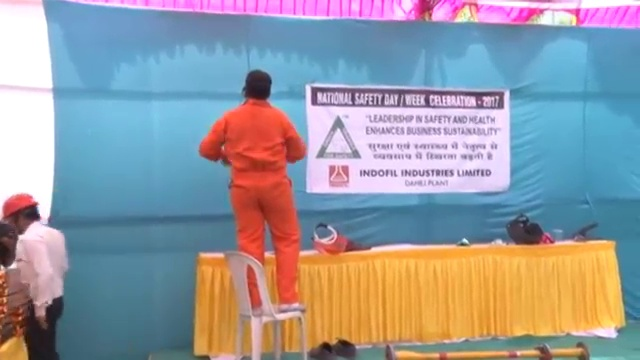helmet: (1, 192, 39, 221)
helmet_off: (239, 70, 272, 101)
helmet_on: (1, 191, 41, 236)
person: (202, 67, 308, 315), (1, 189, 76, 358)
